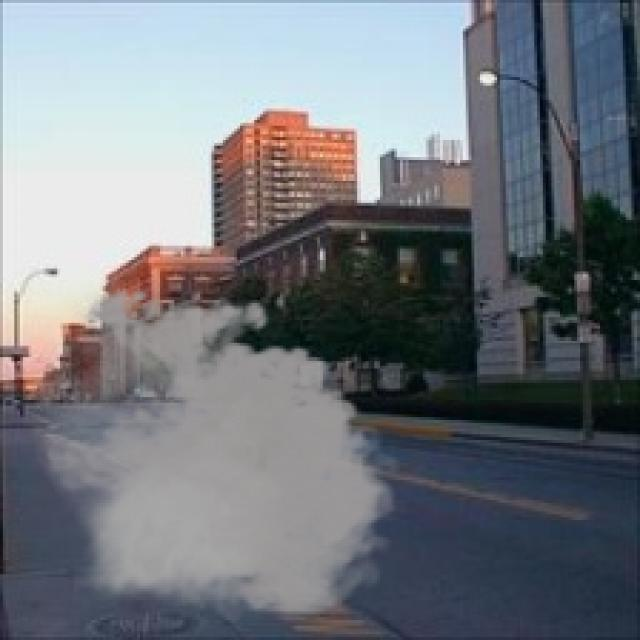smoke: (23, 277, 408, 629)
